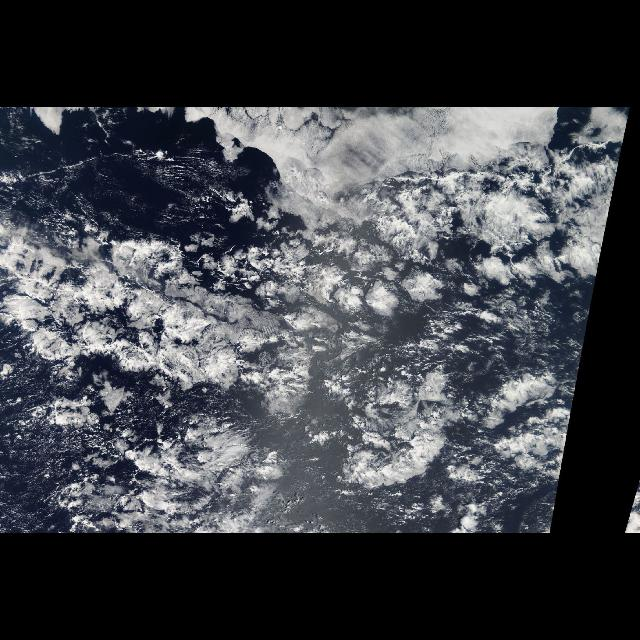Flower: (1, 196, 585, 478)
Sugar: (447, 296, 588, 392)
